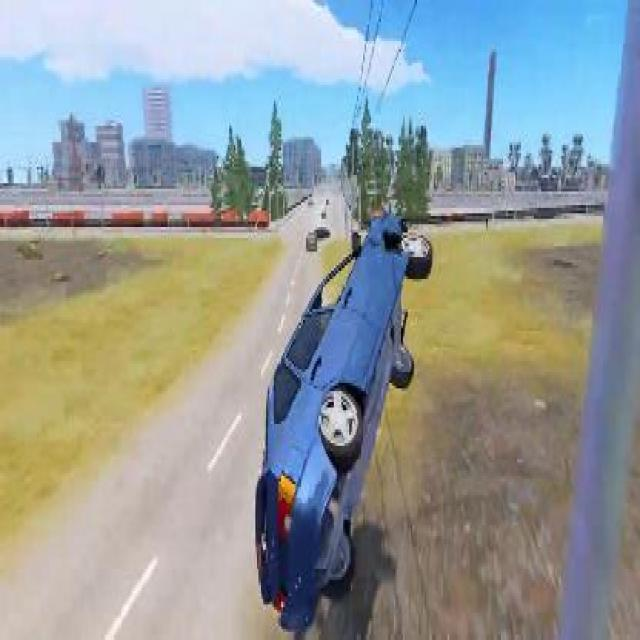accident: (241, 200, 437, 634)
